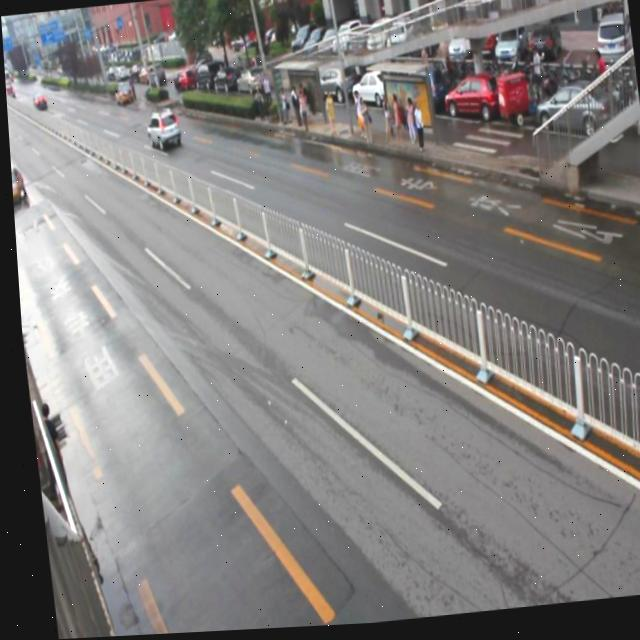car: (143, 110, 181, 153)
